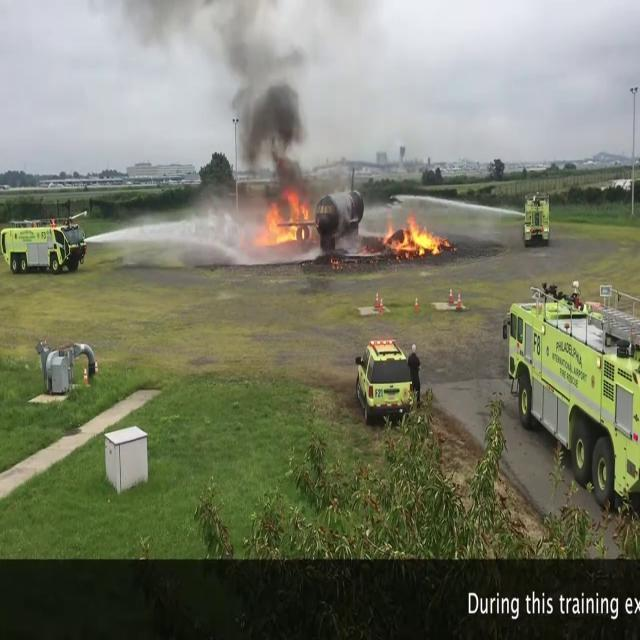Fire: (249, 186, 319, 249), (384, 208, 450, 260)
Smoke: (170, 1, 319, 184)
